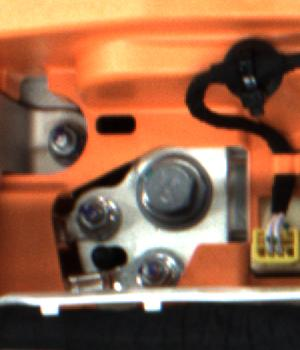nut_b: (132, 150, 219, 233)
screw_s: (66, 186, 117, 238), (45, 124, 94, 168), (137, 256, 183, 290)
